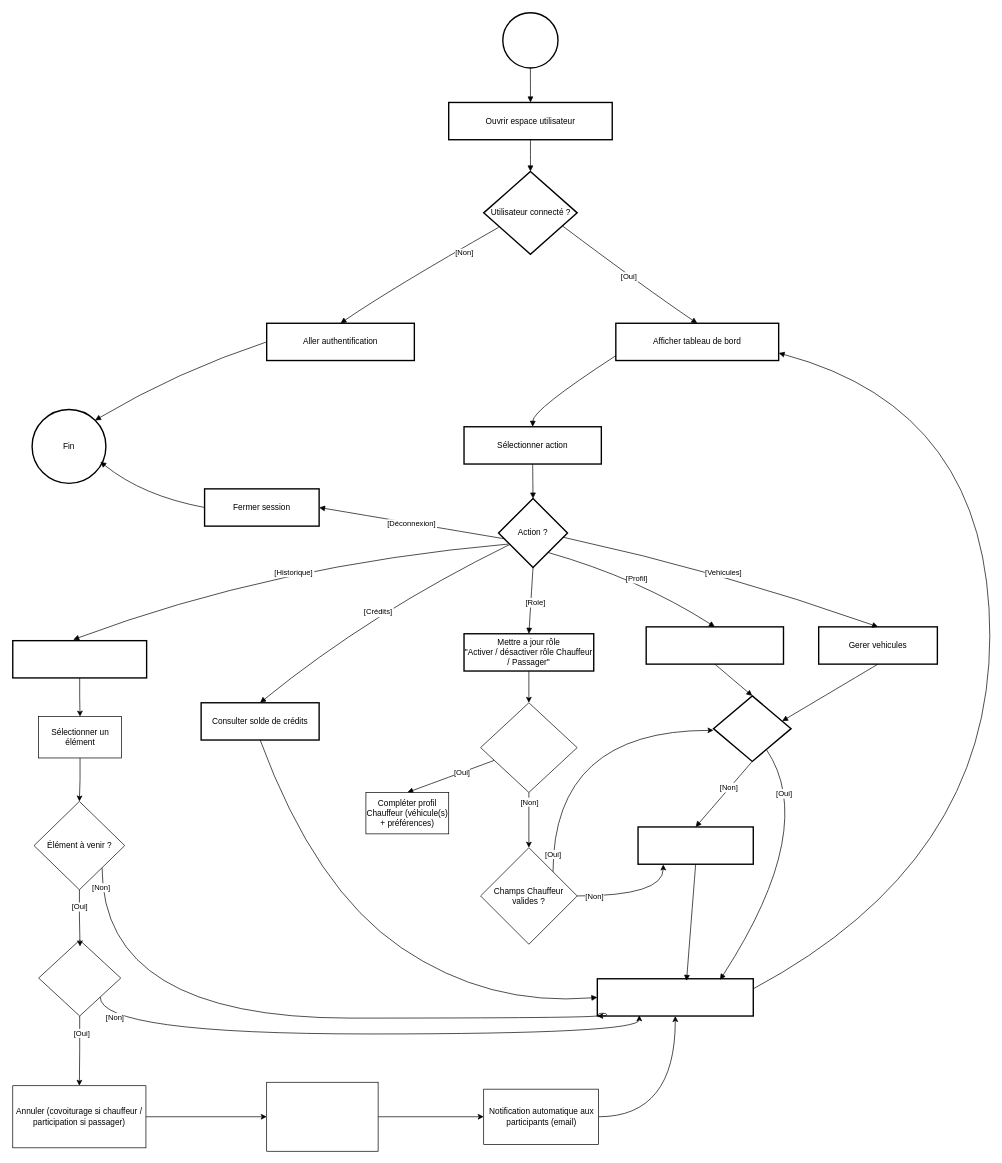
This 1002x1163 diagram has some shape labels left out. Each missing label, with the box of its shape:
Afficher erreur: (637, 826, 754, 865)
Afficher historique (covoiturages + participations): (12, 640, 147, 678)
Annuler ?: (38, 939, 121, 1016)
Début: (502, 12, 558, 68)
Mettre a jour profil: (645, 626, 784, 664)
Mettre à jour places et crédits: (266, 1082, 378, 1151)
Modification Ok ?: (712, 695, 791, 762)
Retour tableau de bord: (596, 978, 754, 1016)
Rôle inclut Chauffeur ?: (480, 702, 577, 792)
